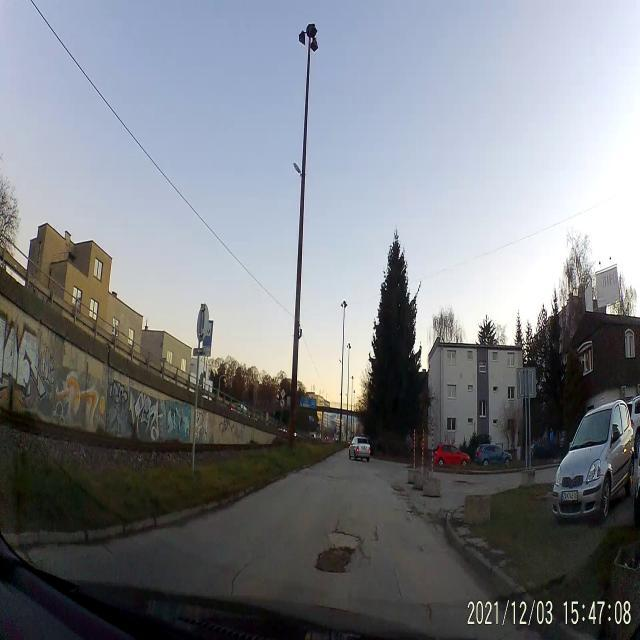Pothole: (314, 547, 356, 577), (325, 526, 362, 548), (453, 478, 474, 488), (406, 507, 423, 519), (437, 505, 449, 520), (391, 483, 406, 494), (327, 472, 338, 482)
